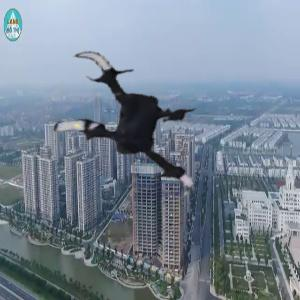drone: (31, 39, 213, 221)
